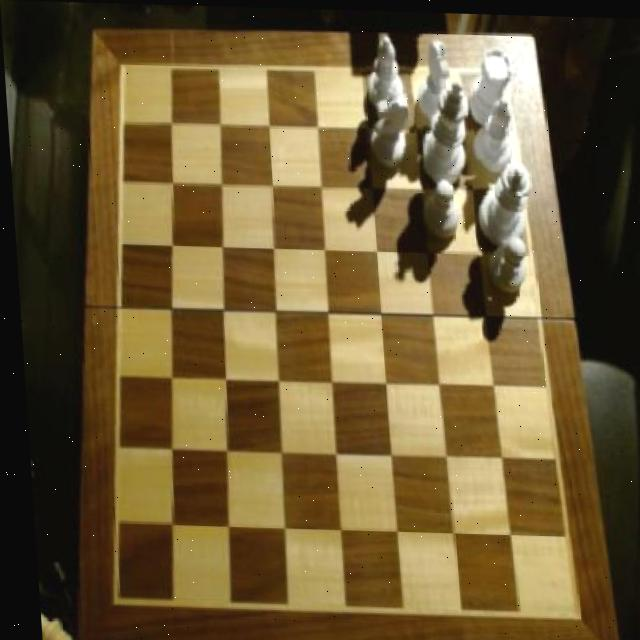black-rook: (471, 97, 520, 176), (363, 35, 409, 110)
white-bishop: (419, 70, 475, 183)
white-king: (365, 87, 415, 169), (415, 37, 456, 125)
white-knight: (484, 232, 532, 298), (420, 173, 463, 239)
white-pawn: (471, 157, 535, 248)
white-queen: (468, 48, 517, 126)
